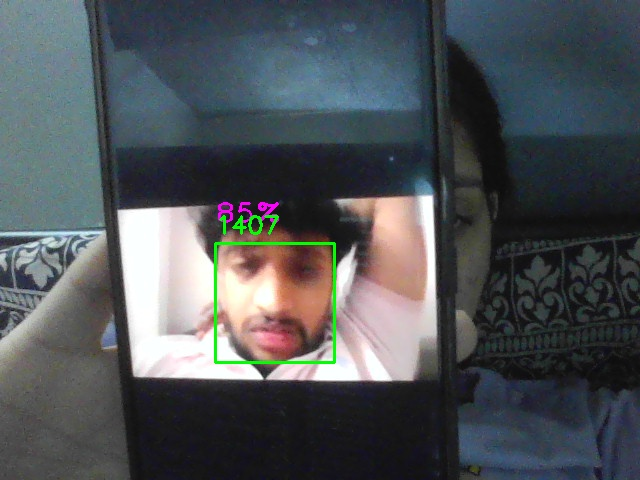fake: (215, 243, 335, 363)
